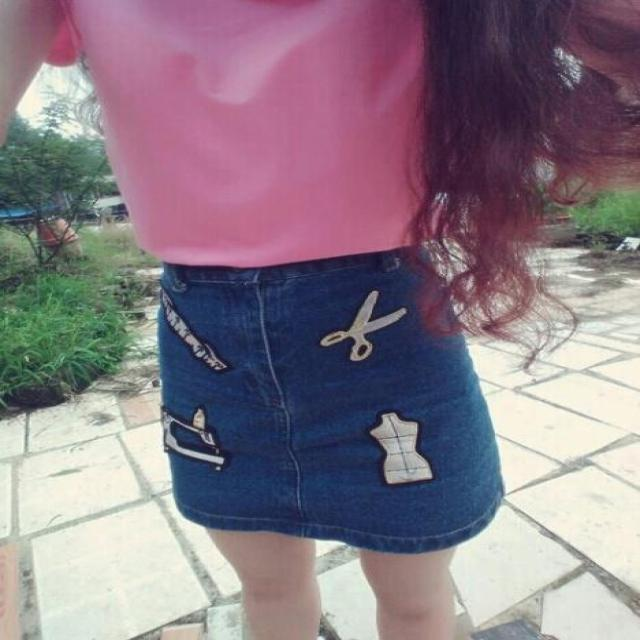short sleeve top: (70, 1, 449, 263)
skirt: (163, 244, 494, 541)
